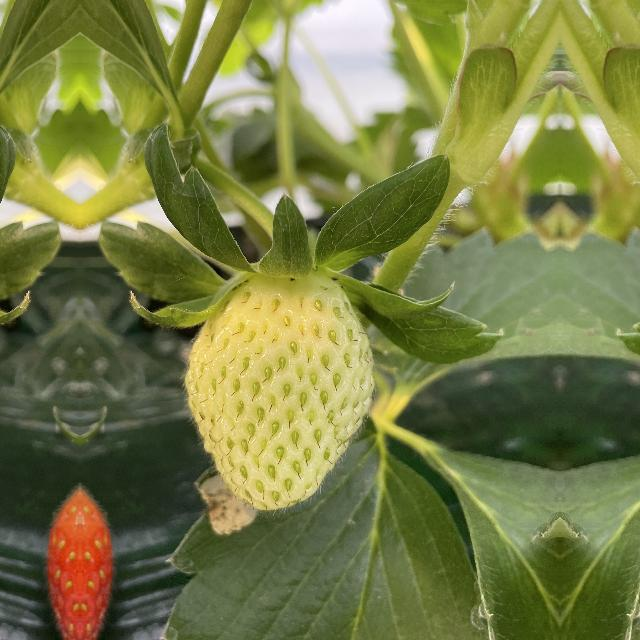Health_25: (176, 252, 394, 510)
